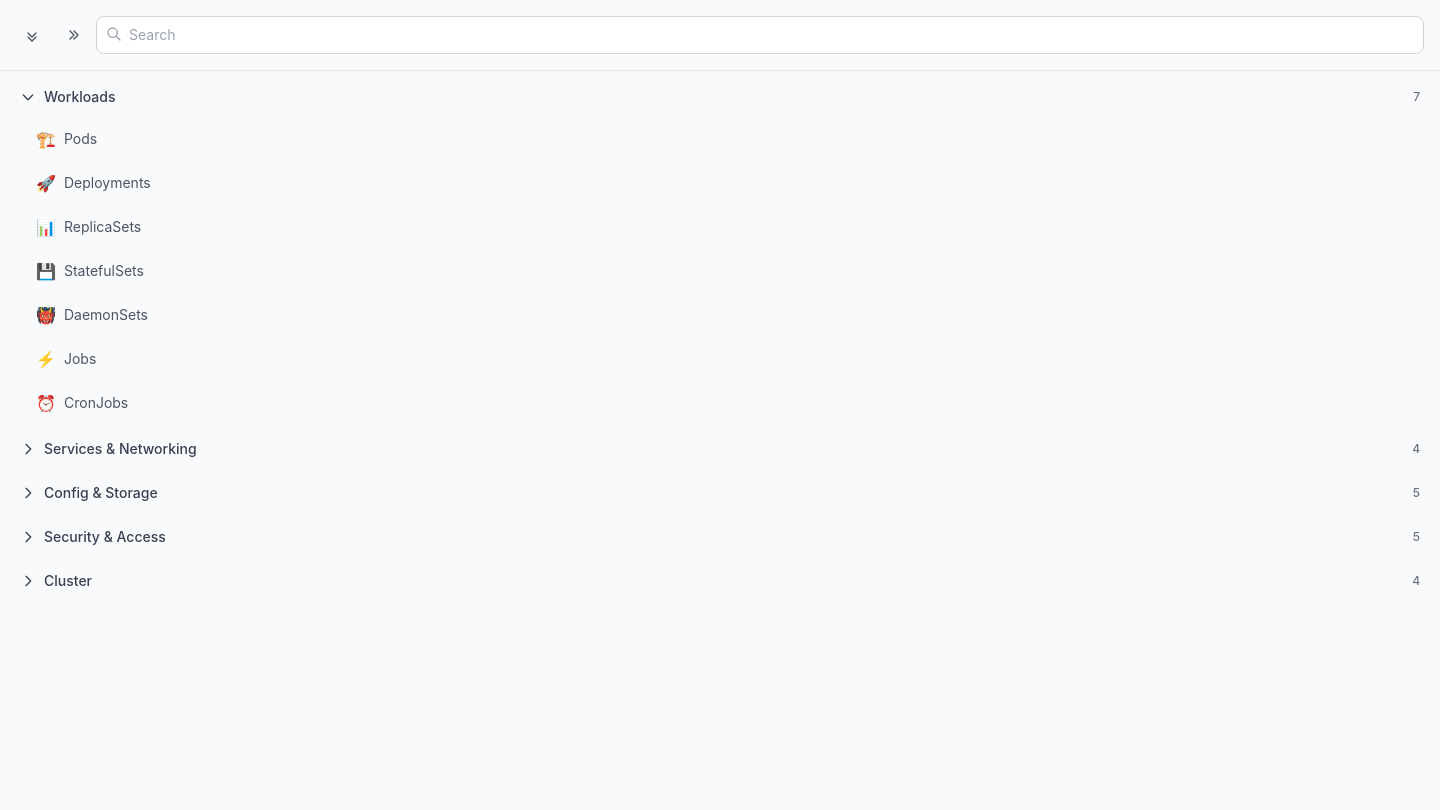
Test case: ResourceTree › collapseAll › should collapse all categories when Collapse All button is clicked
Expected: the text "Pods" is shown, [64,129,97,149]
Step 1. Click the button titled "Collapse All" → (72,35), box [56,16,88,54]
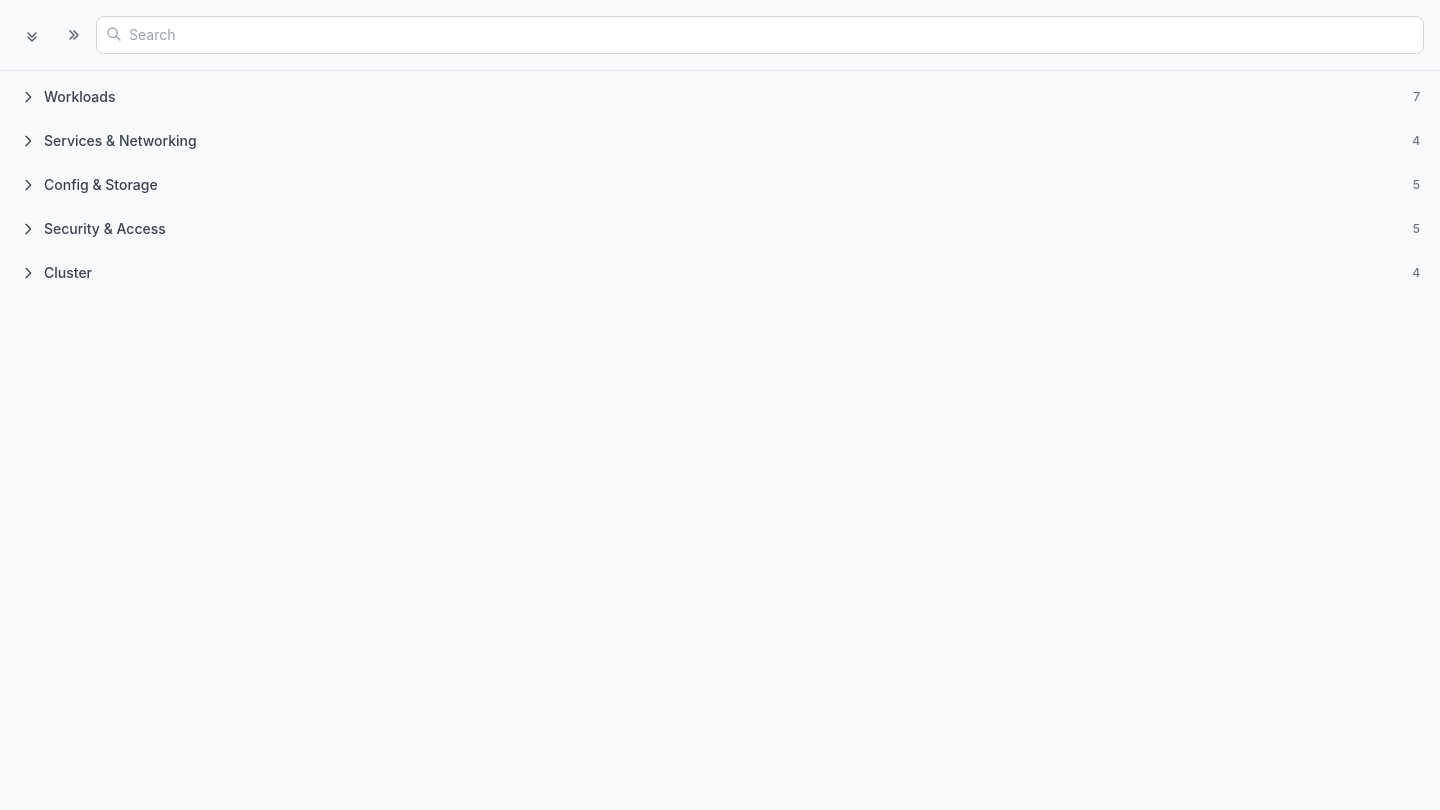
Result: the button "Pods" is gone
